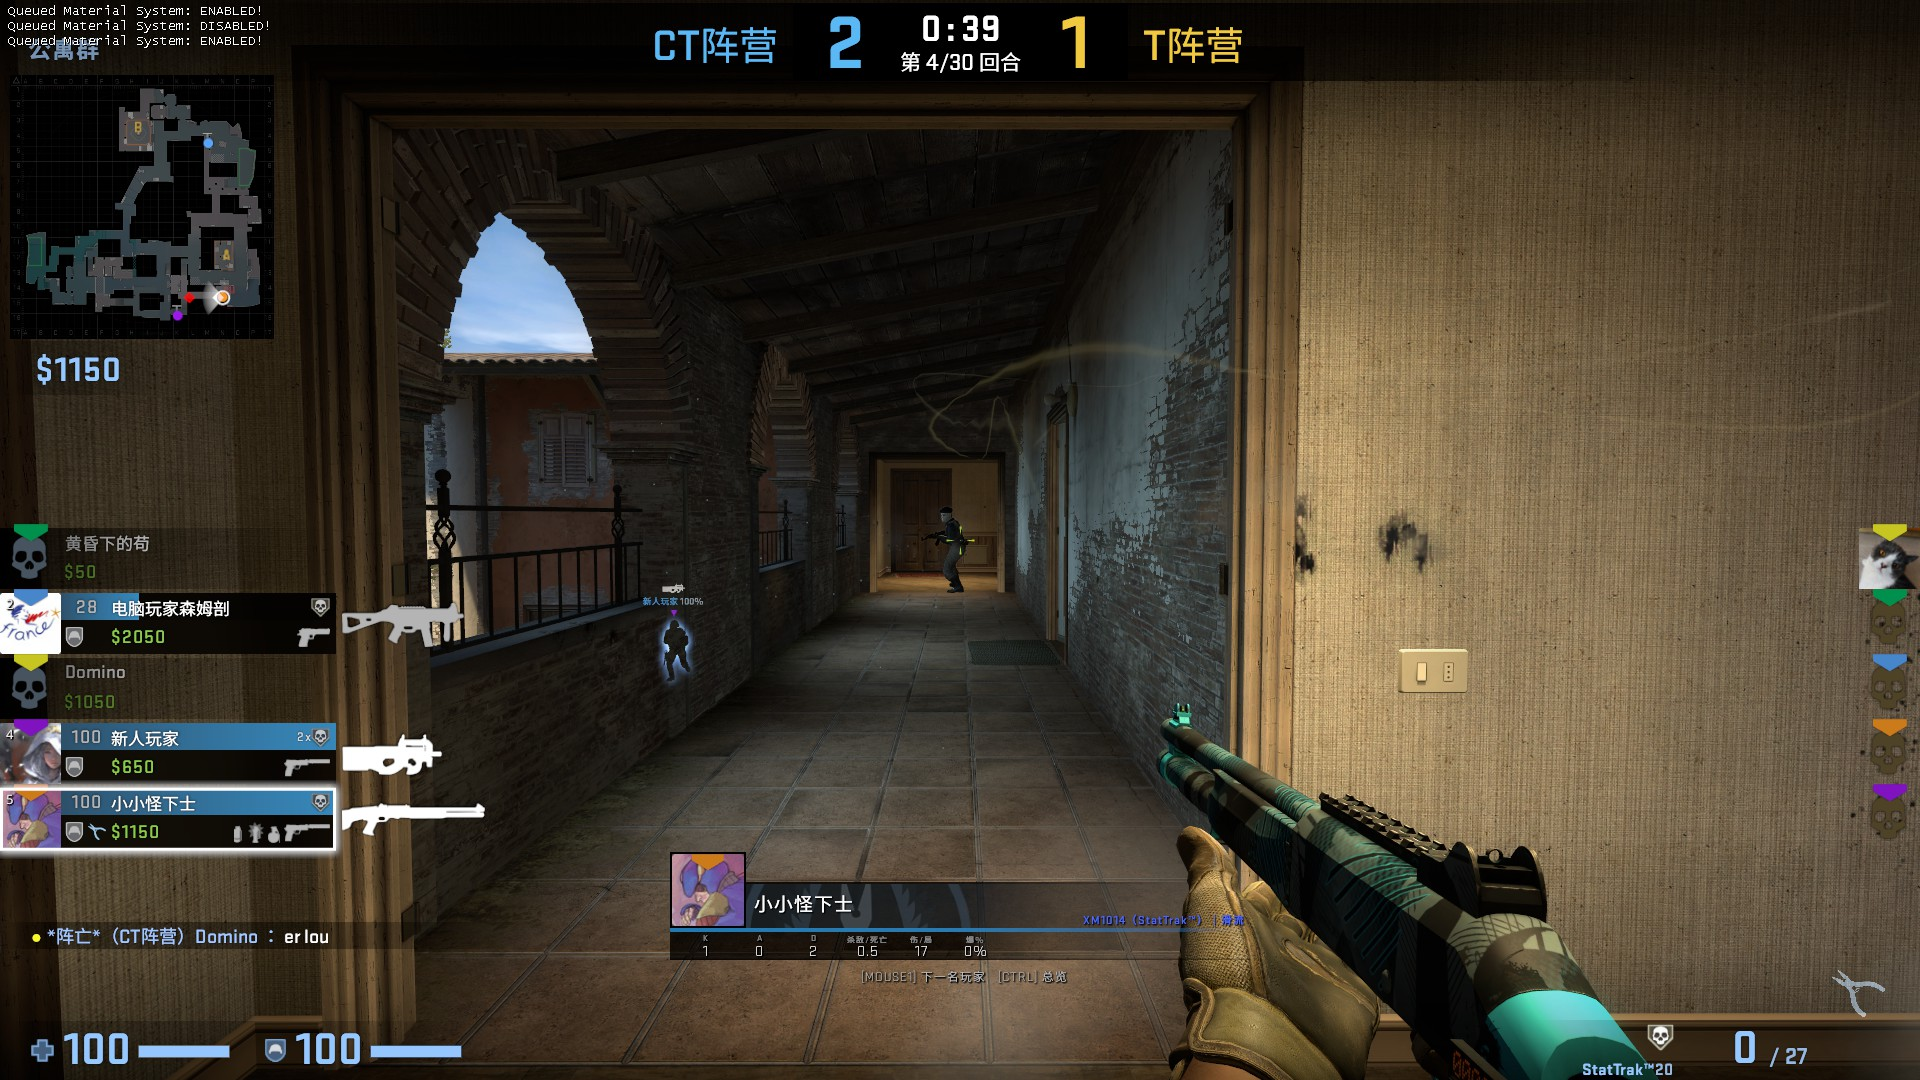head: (935, 506, 954, 523)
